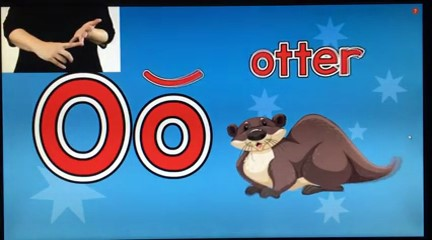O: (32, 15, 107, 71)
